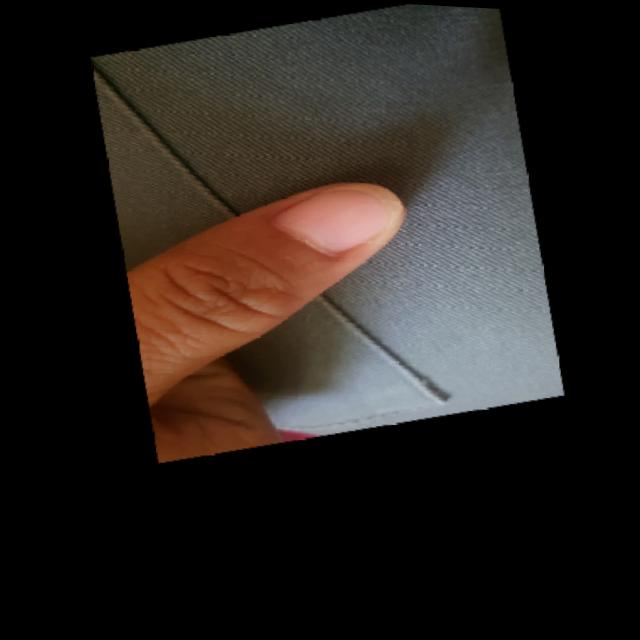Nail: (276, 185, 403, 254)
